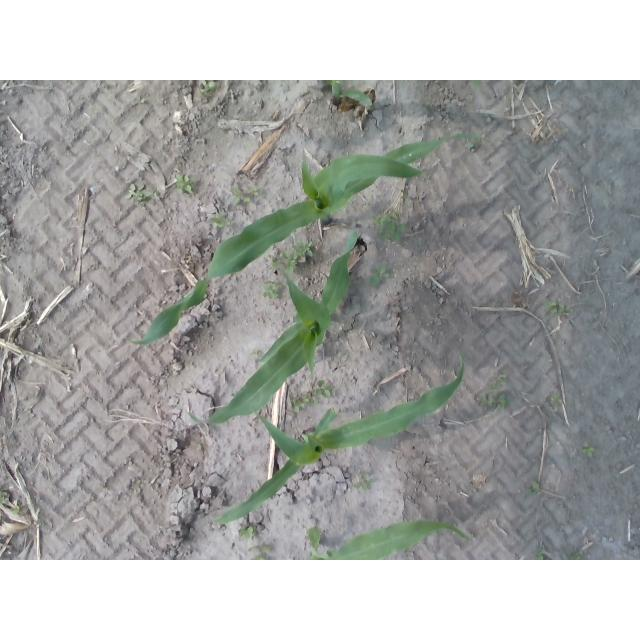Maize: (124, 134, 485, 347), (214, 348, 464, 524), (179, 230, 358, 426), (304, 517, 472, 560), (320, 80, 480, 106)
Weeds: (371, 211, 405, 243), (282, 241, 314, 274), (123, 184, 157, 205), (480, 386, 509, 410), (291, 393, 318, 412), (233, 186, 260, 205), (173, 174, 196, 195), (368, 264, 389, 284), (544, 300, 570, 316), (262, 281, 285, 299), (198, 80, 218, 100), (354, 471, 374, 490), (315, 380, 333, 399), (209, 212, 230, 228), (524, 480, 541, 496), (238, 525, 256, 539), (548, 394, 560, 413), (581, 442, 595, 457), (565, 550, 583, 560), (534, 548, 546, 561), (495, 373, 507, 385), (271, 258, 282, 269), (464, 141, 476, 150), (0, 491, 8, 504), (251, 348, 261, 358), (261, 544, 271, 552), (250, 556, 266, 561), (12, 506, 21, 514)
